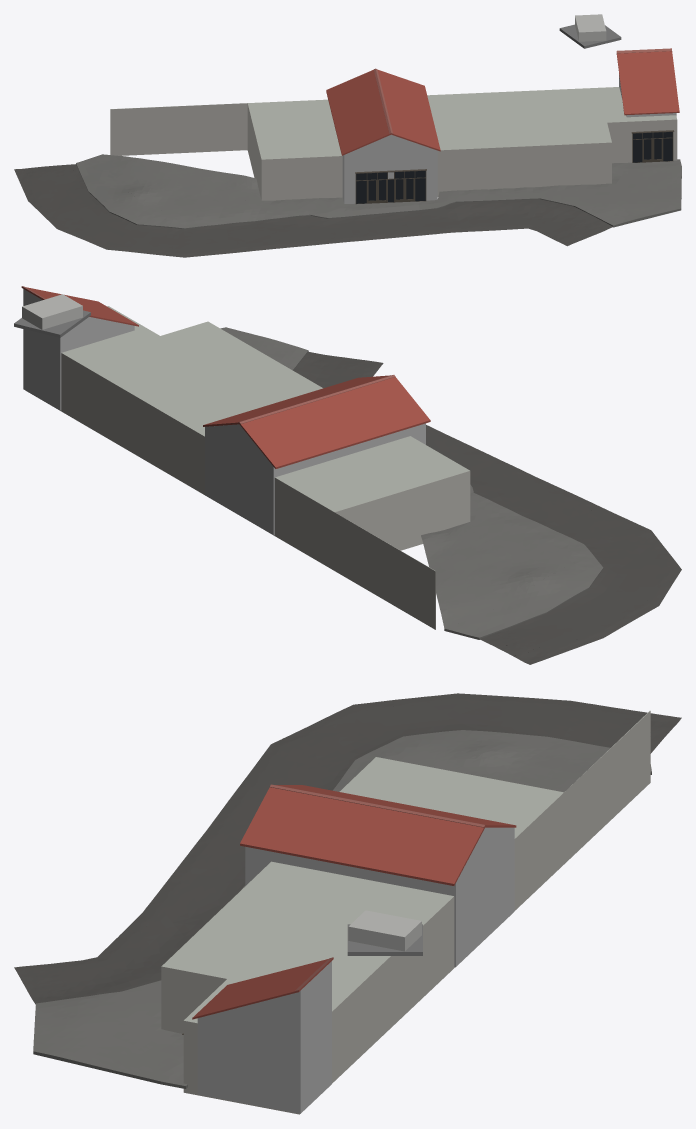
3 renders of one model, top to bottom at view 1: azimuth 30°, elevation 25°; view 2: azimuth 150°, elevation 25°; view 3: azimuth 270°, elevation 25°, orthographic. The views are drawn at different scales.
Parts seen in each view (by area): view 1: Ice Arena L0 south strip (LiDAR 115.45 m flat; outline UNVER, KP IceArena SSW walk + entry apron (2020 ortho; UNVERIFIED), KP IceArena SSW drive-aisle asphalt (2020 ortho; UNVERIFIED), KN IceArena red roof 0 (LiDAR 2017 gable, ridge 118.42; mate, KO IceArena east bay entrance storefront (generic; UNVERIFIE, KN IceArena red roof 0 bay walls (LiDAR 2017; UNVERIFIED fac, IceArena_RTU_00 (LiDAR; type UNVERIFIED), KM IceArena RTU_00 curb (to sloped roof; UNVERIFIED); view 2: Ice Arena L0 south strip (LiDAR 115.45 m flat; outline UNVER, KP IceArena SSW drive-aisle asphalt (2020 ortho; UNVERIFIED), KP IceArena SSW walk + entry apron (2020 ortho; UNVERIFIED), KN IceArena red roof 0 (LiDAR 2017 gable, ridge 118.42; mate, KN IceArena red roof 0 bay walls (LiDAR 2017; UNVERIFIED fac, IceArena_RTU_00 (LiDAR; type UNVERIFIED), KM IceArena RTU_00 curb (to sloped roof; UNVERIFIED); view 3: Ice Arena L0 south strip (LiDAR 115.45 m flat; outline UNVER, KP IceArena SSW drive-aisle asphalt (2020 ortho; UNVERIFIED), KN IceArena red roof 0 bay walls (LiDAR 2017; UNVERIFIED fac, KP IceArena SSW walk + entry apron (2020 ortho; UNVERIFIED), KN IceArena red roof 0 (LiDAR 2017 gable, ridge 118.42; mate, IceArena_RTU_00 (LiDAR; type UNVERIFIED), KM IceArena RTU_00 curb (to sloped roof; UNVERIFIED).
Boxes of the visible parts, x1,y1,x2,y2 form: Ice Arena L0 south strip (LiDAR 115.45 m flat; outline UNVER: (110, 87, 677, 200); KP IceArena SSW walk + entry apron (2020 ortho; UNVERIFIED): (76, 154, 681, 228); KP IceArena SSW drive-aisle asphalt (2020 ortho; UNVERIFIED): (14, 164, 612, 257); KN IceArena red roof 0 (LiDAR 2017 gable, ridge 118.42; mate: (326, 48, 679, 155); KO IceArena east bay entrance storefront (generic; UNVERIFIE: (355, 130, 674, 204); KN IceArena red roof 0 bay walls (LiDAR 2017; UNVERIFIED fac: (342, 74, 676, 203); IceArena_RTU_00 (LiDAR; type UNVERIFIED): (575, 14, 606, 41); KM IceArena RTU_00 curb (to sloped roof; UNVERIFIED): (559, 24, 621, 48); Ice Arena L0 south strip (LiDAR 115.45 m flat; outline UNVER: (28, 306, 470, 629); KP IceArena SSW drive-aisle asphalt (2020 ortho; UNVERIFIED): (293, 352, 681, 664); KP IceArena SSW walk + entry apron (2020 ortho; UNVERIFIED): (220, 327, 603, 639); KN IceArena red roof 0 (LiDAR 2017 gable, ridge 118.42; mate: (21, 286, 430, 468); KN IceArena red roof 0 bay walls (LiDAR 2017; UNVERIFIED fac: (23, 289, 425, 535); IceArena_RTU_00 (LiDAR; type UNVERIFIED): (22, 294, 82, 329); KM IceArena RTU_00 curb (to sloped roof; UNVERIFIED): (14, 310, 90, 337); Ice Arena L0 south strip (LiDAR 115.45 m flat; outline UNVER: (161, 710, 650, 1114); KP IceArena SSW drive-aisle asphalt (2020 ortho; UNVERIFIED): (14, 693, 681, 1004); KN IceArena red roof 0 bay walls (LiDAR 2017; UNVERIFIED fac: (197, 827, 514, 1113); KP IceArena SSW walk + entry apron (2020 ortho; UNVERIFIED): (33, 730, 651, 1088); KN IceArena red roof 0 (LiDAR 2017 gable, ridge 118.42; mate: (192, 784, 516, 1019); IceArena_RTU_00 (LiDAR; type UNVERIFIED): (348, 910, 421, 951); KM IceArena RTU_00 curb (to sloped roof; UNVERIFIED): (347, 924, 422, 955).
Size of the model in its own units: 61.94 by 10.52 by 41.54.
